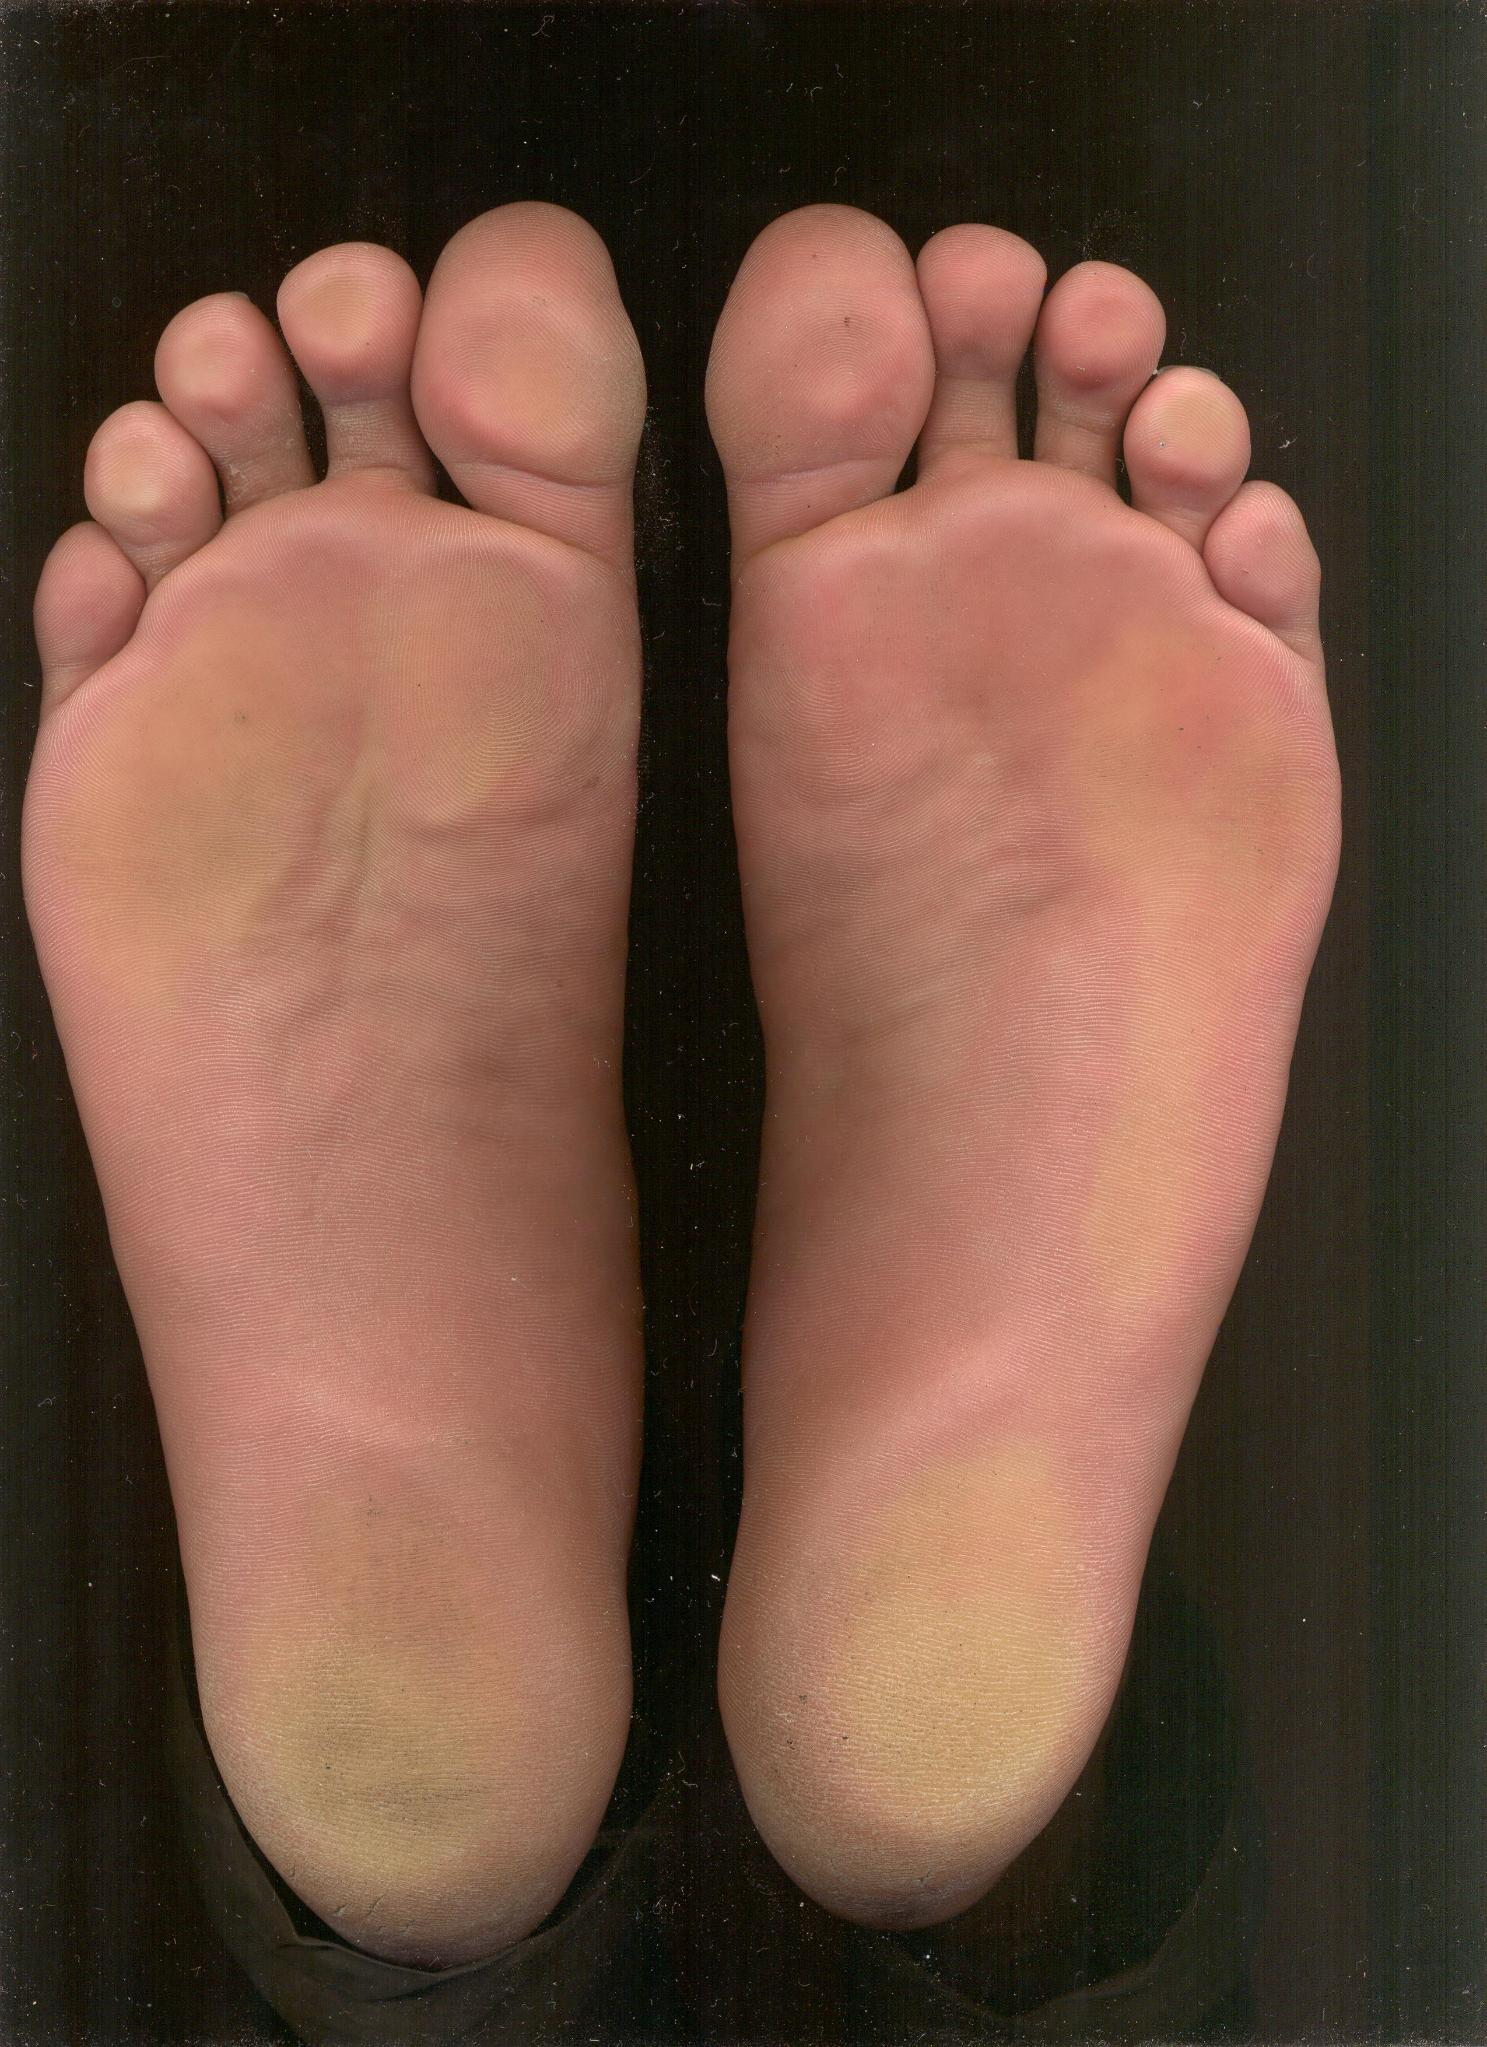1: (30, 192, 694, 1971)
Present: (718, 199, 1371, 1955)
